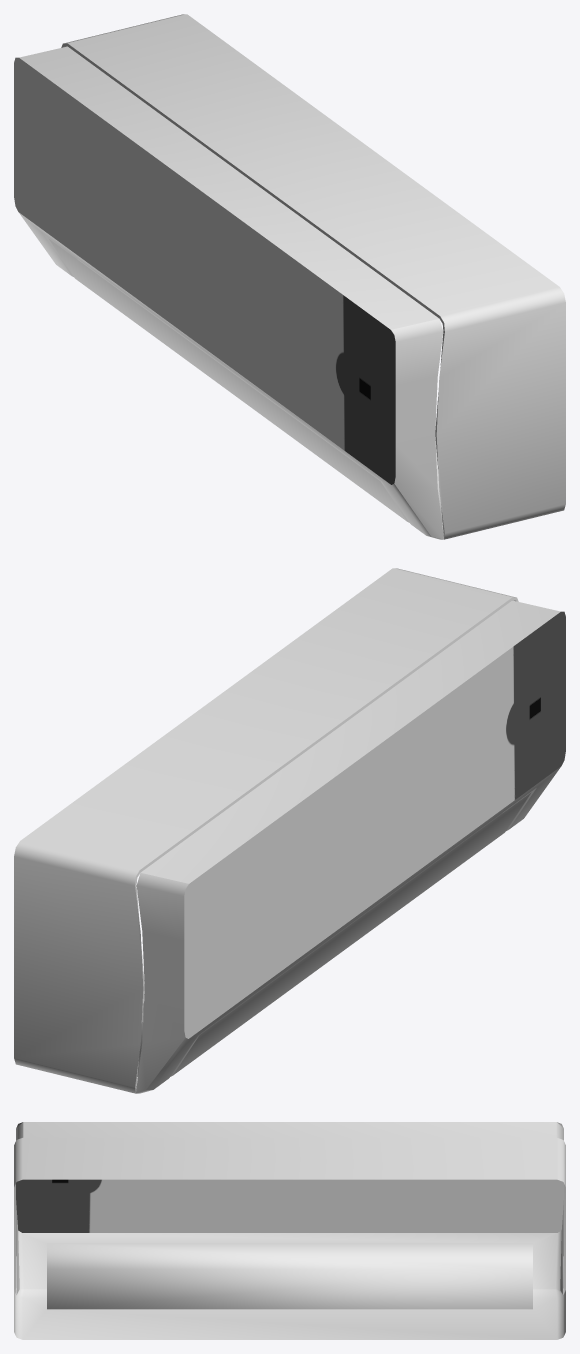
3 renders of one model, top to bottom at view 1: azimuth 30°, elevation 25°; view 2: azimuth 150°, elevation 25°; view 3: azimuth 270°, elevation 25°, orthographic. The views are drawn at different scales.
Visible parts, largest first — view 1: AC; view 2: AC; view 3: AC.
Boxes of the visible parts, x1,y1,x2,y2 form: AC: (14,14,565,539); AC: (14,568,565,1093); AC: (14,1122,565,1339).
Size of the model in its own units: 0.3378 by 0.4277 by 1.33.
1 material, 1 textured.
